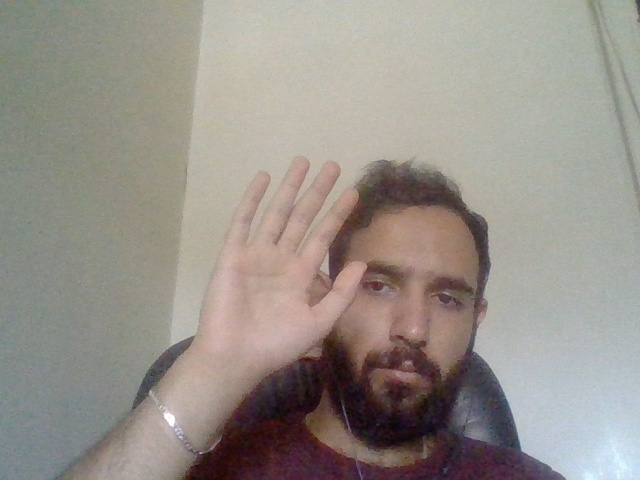Goodbye: (200, 144, 362, 418)
